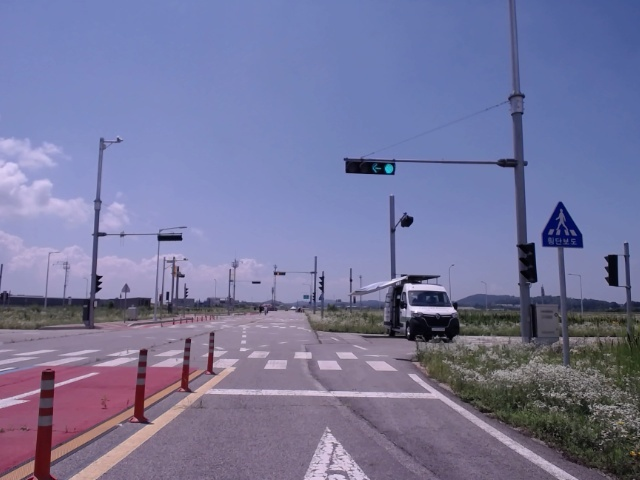all_green_4: (342, 157, 395, 175)
